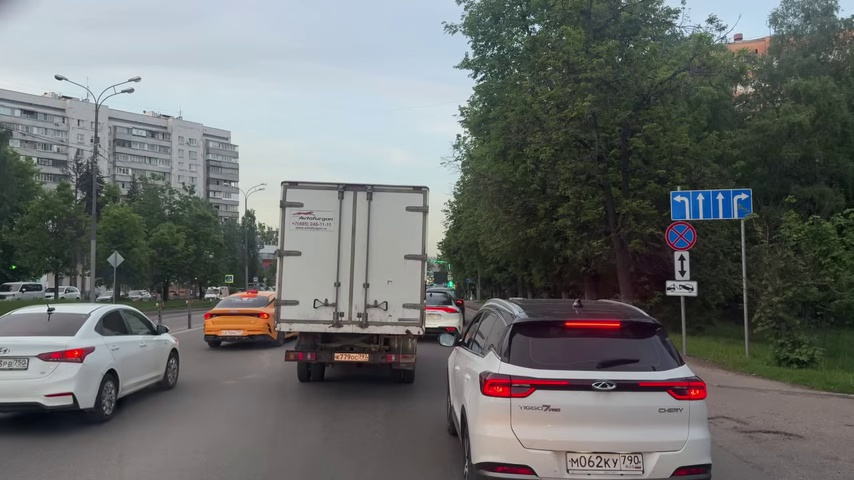apagada: (119, 74, 141, 97)
